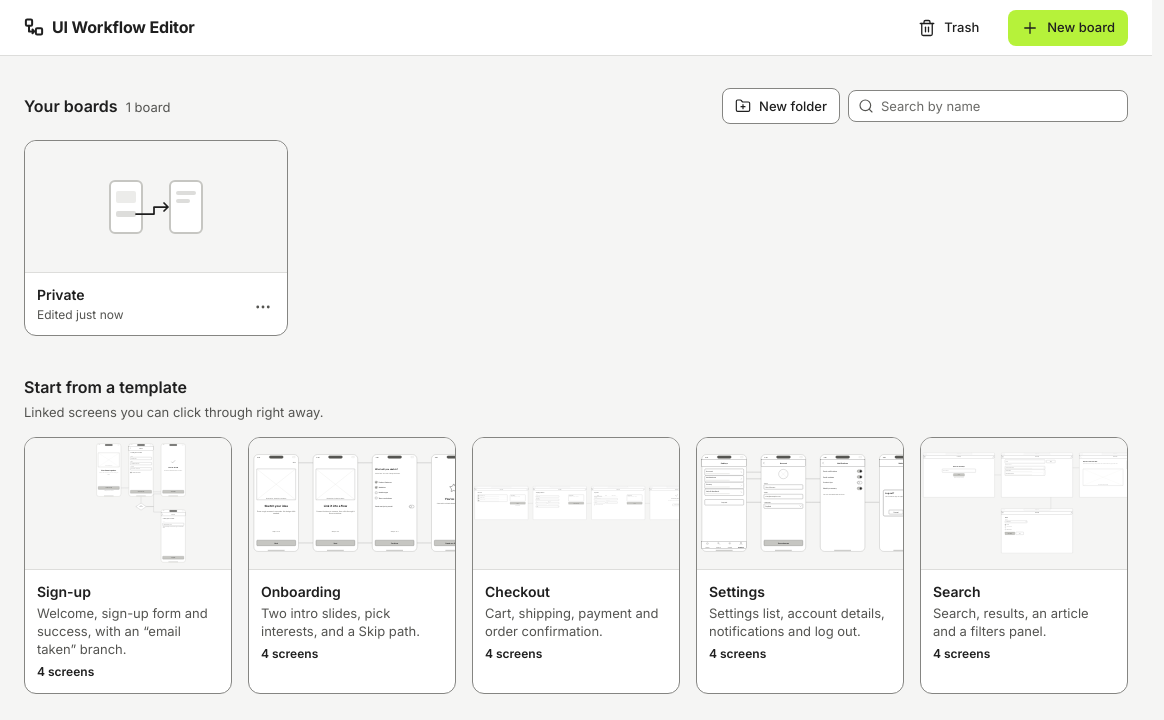
Test: DashboardPage › disables "Copy share link" until the board is shared
Press the mouse on the button named "Options for Private" at [263, 307], box [247, 291, 279, 323]
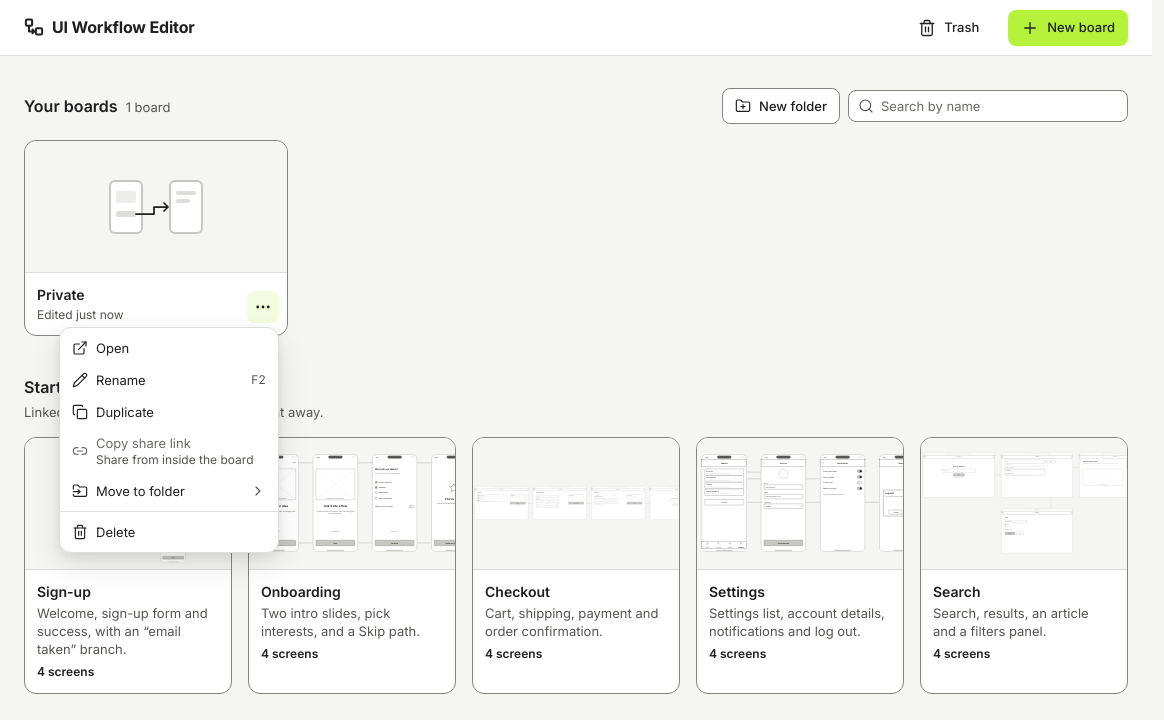
Check: the text "Share from inside the board" is shown, box [96, 452, 266, 469]
